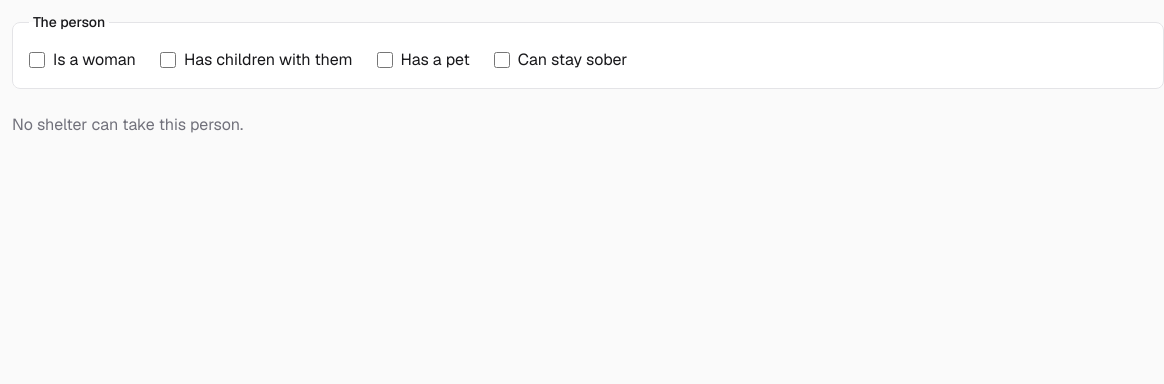
Test: ShelterBoard › shows a shelter's free beds, eligibility rules, address, phone and last updated
Click the checkbox labelled "Is a woman". click: {"x": 37, "y": 60}
box: [29,52,45,68]
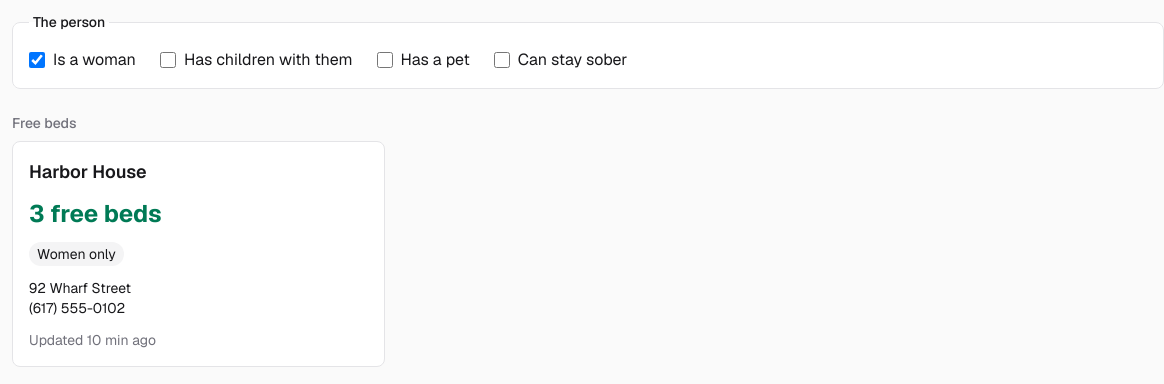
Expected: the text "3 free beds" is shown, [29,198,162,229]
Expected: the list item "Women only" is shown, [29,242,124,266]
Expected: the text "92 Wharf Street" is shown, [29,279,131,297]
